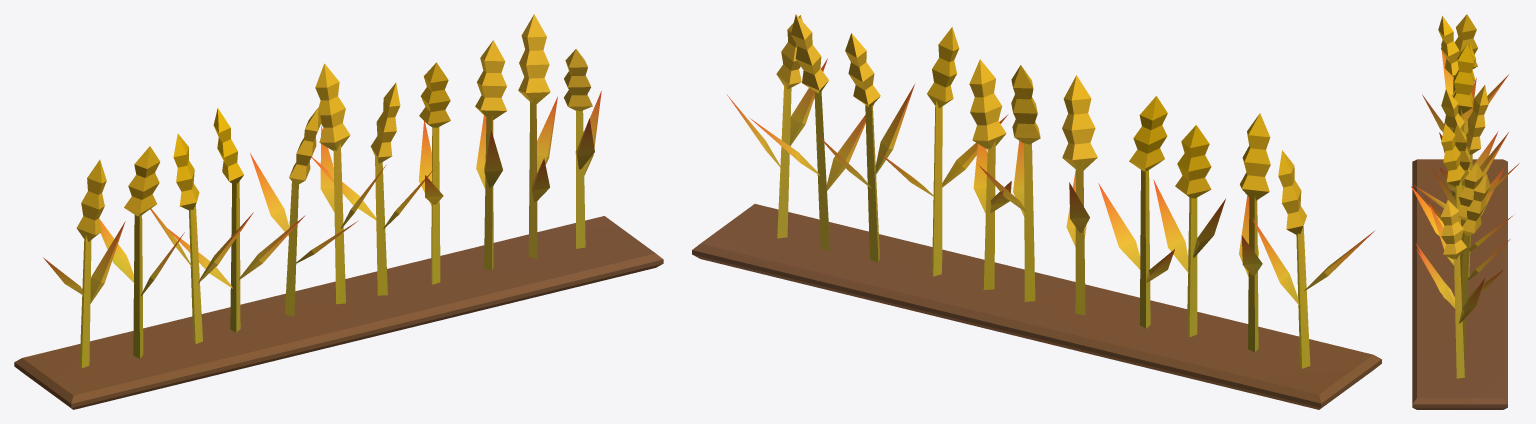
Rendered from Farm_Wheat_Edge_3m.glb.
3 views of the same model, side by side, from view 1: azimuth 30°, elevation 25°; view 2: azimuth 150°, elevation 25°; view 3: azimuth 270°, elevation 25° (orthographic). The views are drawn at different scales.
Visible parts, largest first — view 1: Farm_Wheat_Edge_3m; view 2: Farm_Wheat_Edge_3m; view 3: Farm_Wheat_Edge_3m.
Part boxes in pixels (left/top/right/bottom): Farm_Wheat_Edge_3m: left=14, top=14, right=663, bottom=409; Farm_Wheat_Edge_3m: left=692, top=14, right=1381, bottom=409; Farm_Wheat_Edge_3m: left=1411, top=14, right=1519, bottom=409.
Bounding box in the file's own units: 3.06 × 1.19 × 0.5838.
